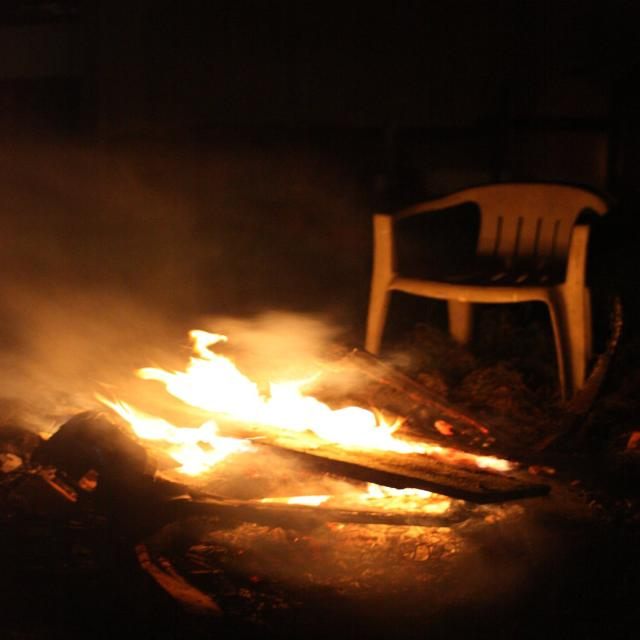chair: (351, 161, 640, 458)
